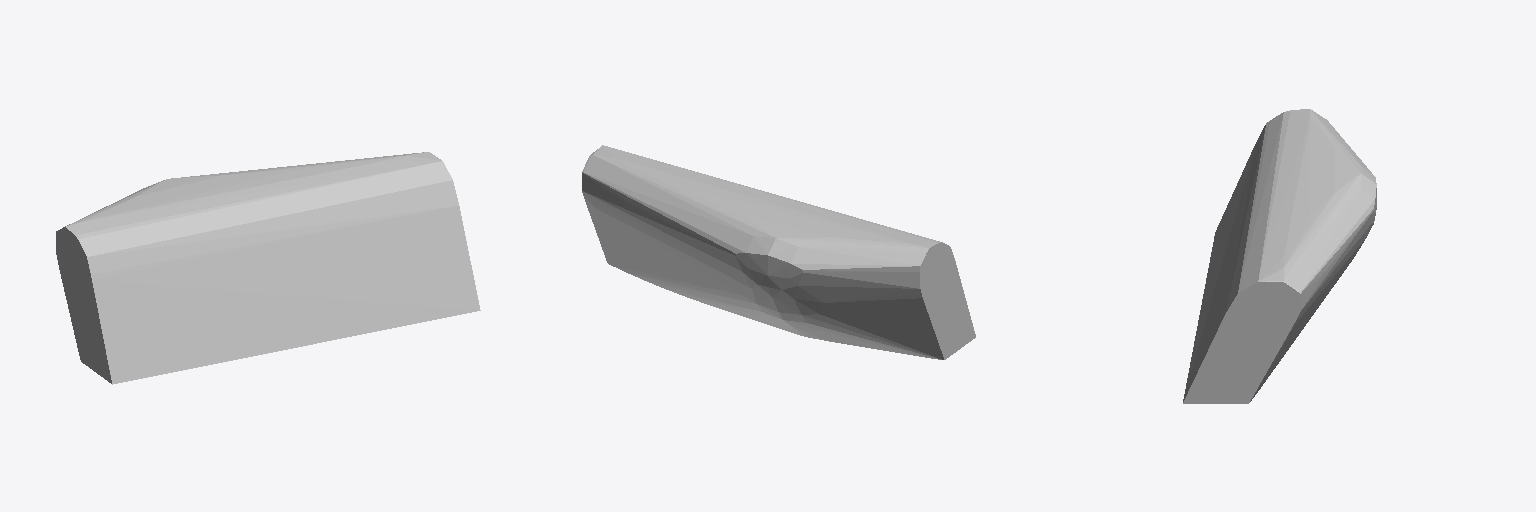
The model's file is skillet_collision_6.obj.
3 renders of one model, left to right at view 1: azimuth 30°, elevation 25°; view 2: azimuth 150°, elevation 25°; view 3: azimuth 270°, elevation 25°, orthographic.
Bounding box in the file's own units: 0.0511 × 0.0172 × 0.0245.